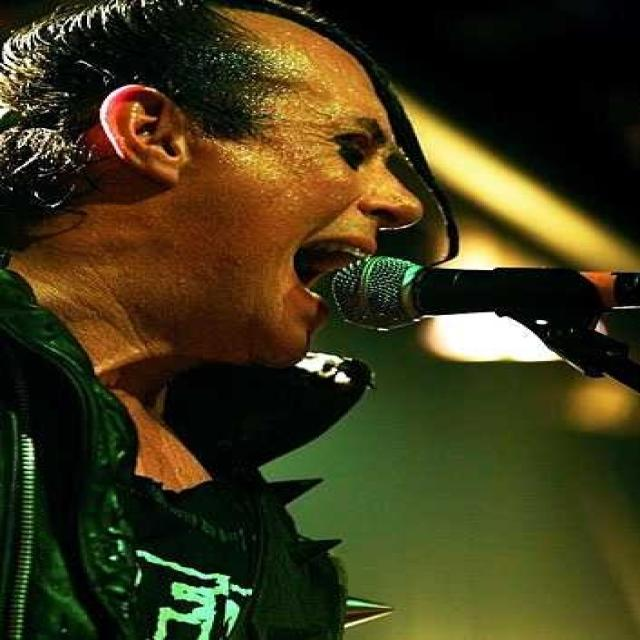microphone: (325, 256, 631, 330)
